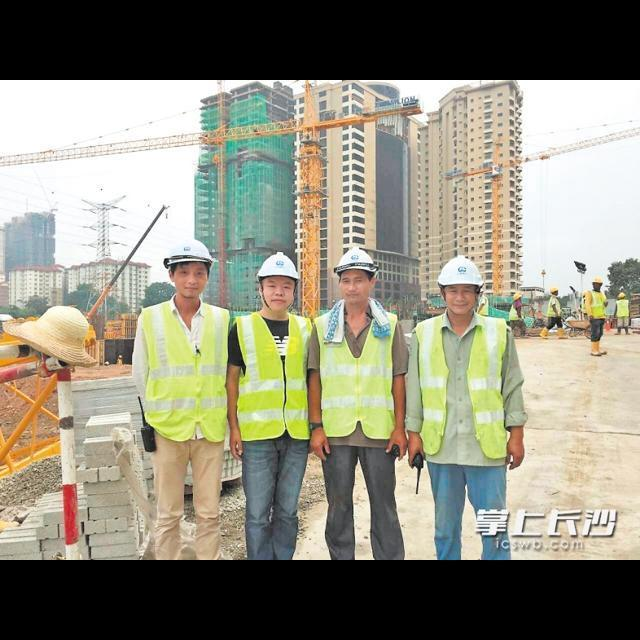Capacete: (163, 239, 212, 268), (438, 256, 483, 286), (256, 252, 298, 281), (334, 247, 377, 274), (513, 291, 521, 300), (592, 276, 602, 283), (550, 286, 558, 293), (618, 292, 625, 298)
Colete: (141, 302, 228, 441), (315, 314, 396, 438), (237, 313, 310, 440), (467, 316, 506, 458), (591, 291, 606, 318), (546, 296, 560, 317), (616, 299, 629, 317), (478, 294, 488, 316), (509, 305, 518, 320)
